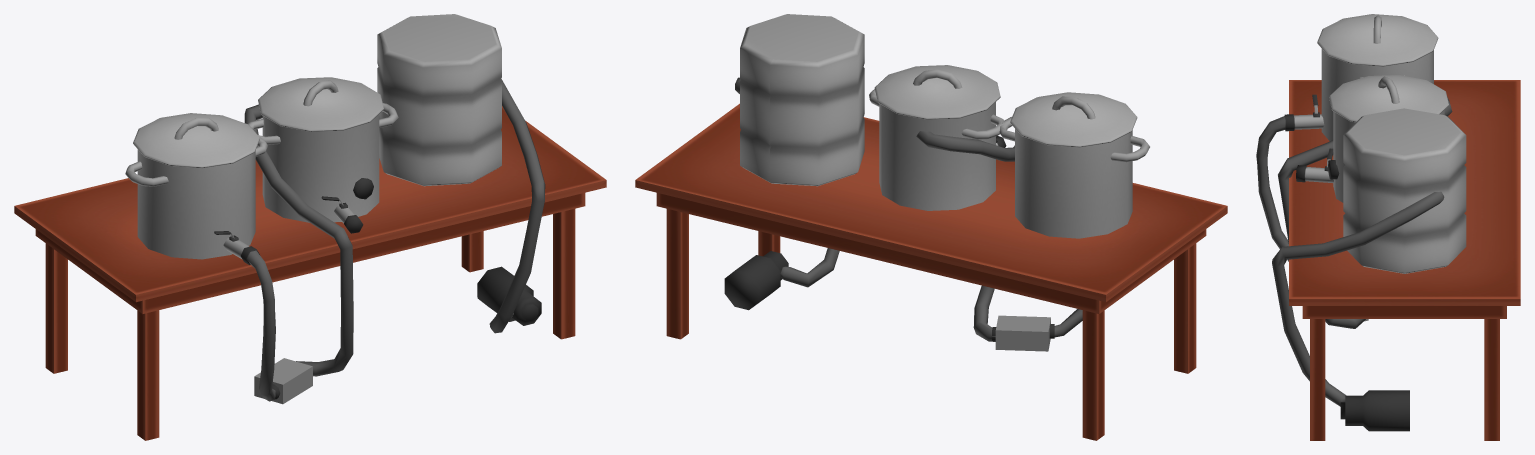
Rendered from Friday_breweryStation 1.fbx.
3 views of the same model, side by side, from view 1: azimuth 30°, elevation 25°; view 2: azimuth 150°, elevation 25°; view 3: azimuth 270°, elevation 25° (orthographic). The views are drawn at different scales.
Parts seen in each view (by area): view 1: pCylinder14, pCube9; view 2: pCylinder14, pCube9; view 3: pCylinder14, pCube9.
Boxes of the visible parts, x1,y1,x2,y2 form: pCylinder14: [125, 14, 545, 404]; pCube9: [14, 106, 606, 440]; pCylinder14: [724, 14, 1149, 351]; pCube9: [635, 103, 1227, 440]; pCylinder14: [1256, 14, 1466, 431]; pCube9: [1289, 80, 1520, 440].
Size of the model in its own units: 27.71 by 15.92 by 14.14.
